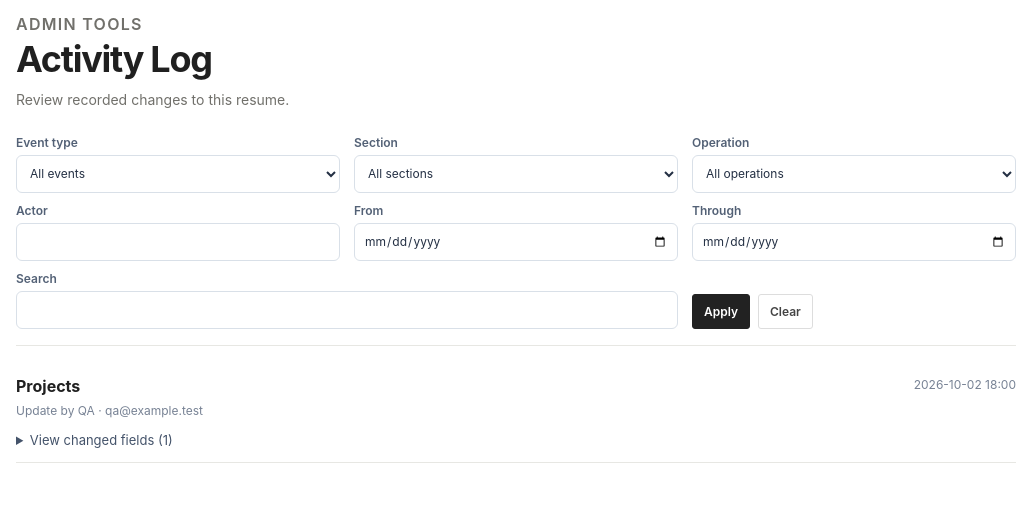
Activity Log page › describes Projects method edits and renders a Projects V2 event with sparse before positions
Click the heading "View changed fields (1)" at (101, 440), box x1=30 y1=432 x2=173 y2=448
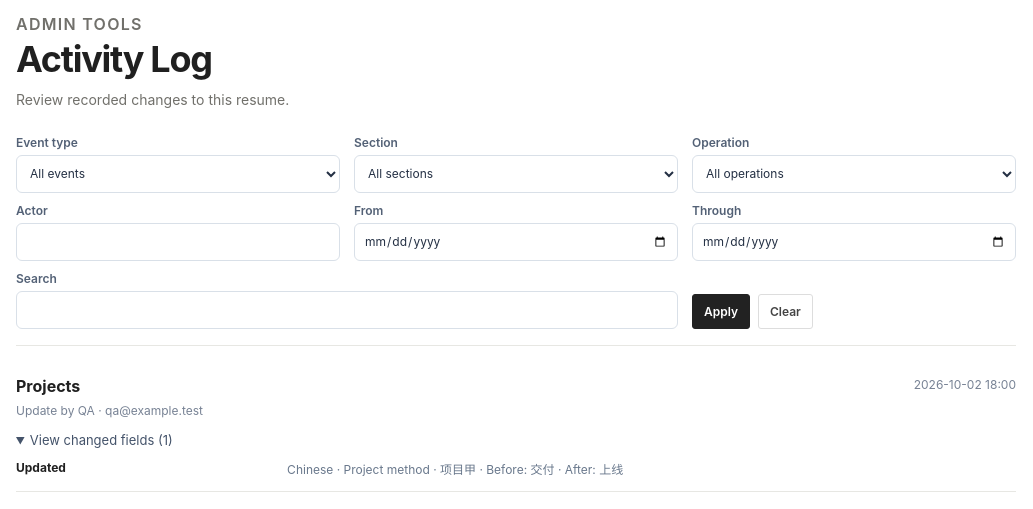
Now the text "Chinese · Project method · 项目甲 · Before: 交付 · After: 上线" is shown, box x1=287 y1=462 x2=623 y2=477
